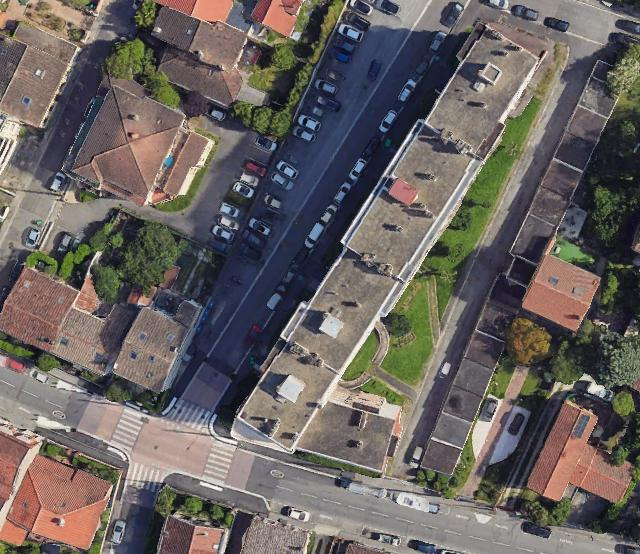immeuble: (223, 12, 551, 473)
maison: (54, 68, 220, 228), (134, 0, 264, 112), (525, 401, 640, 524), (0, 453, 115, 554), (110, 285, 200, 397), (0, 19, 80, 134), (50, 290, 133, 376), (0, 266, 78, 353), (520, 253, 602, 332), (0, 423, 39, 534), (157, 515, 228, 554), (250, 0, 301, 36), (154, 0, 232, 22)
